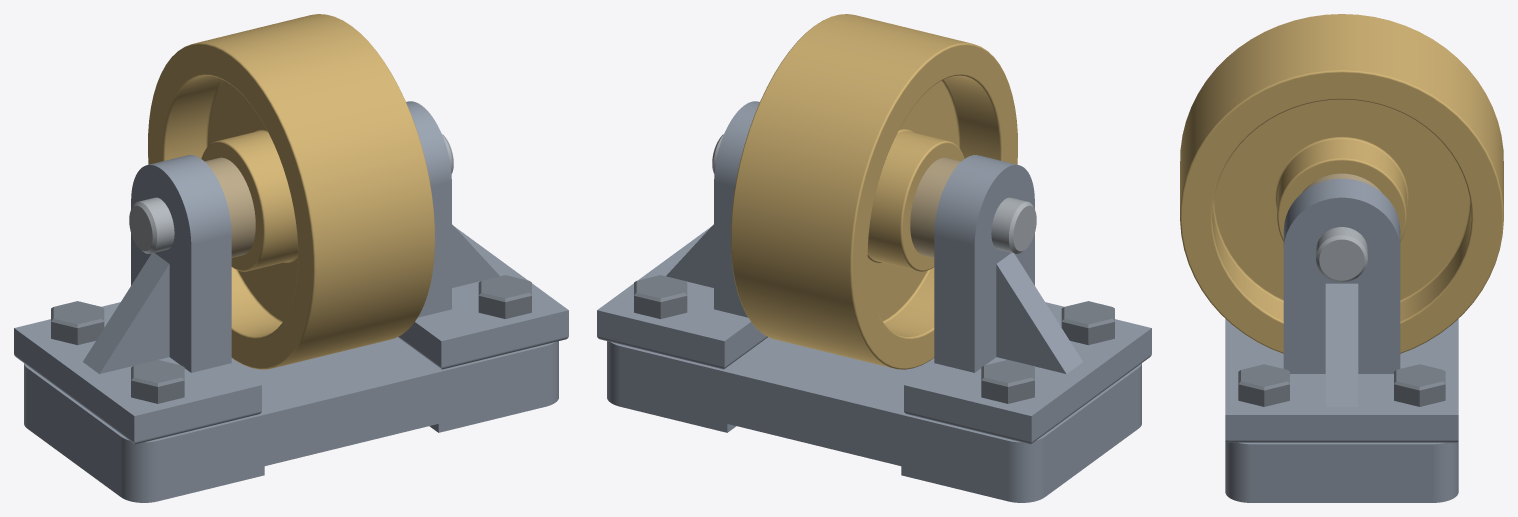
Rendered from step_20.glb.
3 renders of one model, left to right at view 1: azimuth 30°, elevation 25°; view 2: azimuth 150°, elevation 25°; view 3: azimuth 270°, elevation 25°, orthographic. The views are drawn at different scales.
Parts seen in each view (by area): view 1: part__roller, part__base, part__bracket (left), part__bracket (right), part__bush (left), part__spindle, part__hex bolt 3, part__hex bolt 1, part__hex bolt 4; view 2: part__roller, part__base, part__bracket (left), part__bracket (right), part__bush (left), part__spindle, part__hex bolt 4, part__hex bolt 2, part__hex bolt 3; view 3: part__roller, part__bracket (right), part__base, part__spindle, part__hex bolt 1, part__hex bolt 2.
Part boxes in pixels (x1,y1,x2,y2): part__roller: (148, 14, 434, 369); part__base: (24, 337, 558, 502); part__bracket (left): (14, 155, 261, 444); part__bracket (right): (398, 101, 568, 369); part__bush (left): (204, 157, 255, 257); part__spindle: (129, 134, 453, 253); part__hex bolt 3: (131, 360, 184, 403); part__hex bolt 1: (478, 275, 531, 318); part__hex bolt 4: (51, 301, 104, 345); part__roller: (731, 14, 1017, 369); part__base: (607, 337, 1141, 502); part__bracket (left): (904, 155, 1151, 444); part__bracket (right): (597, 101, 767, 369); part__bush (left): (910, 157, 961, 257); part__spindle: (712, 134, 1036, 253); part__hex bolt 4: (981, 360, 1034, 403); part__hex bolt 2: (634, 275, 687, 318); part__hex bolt 3: (1061, 301, 1114, 345); part__roller: (1180, 14, 1503, 353); part__bracket (right): (1225, 178, 1458, 442); part__base: (1225, 319, 1458, 502); part__spindle: (1316, 227, 1367, 282); part__hex bolt 1: (1238, 364, 1289, 406); part__hex bolt 2: (1394, 364, 1445, 406).
Bounding box in the file's own units: 150 × 122 × 99.97.
